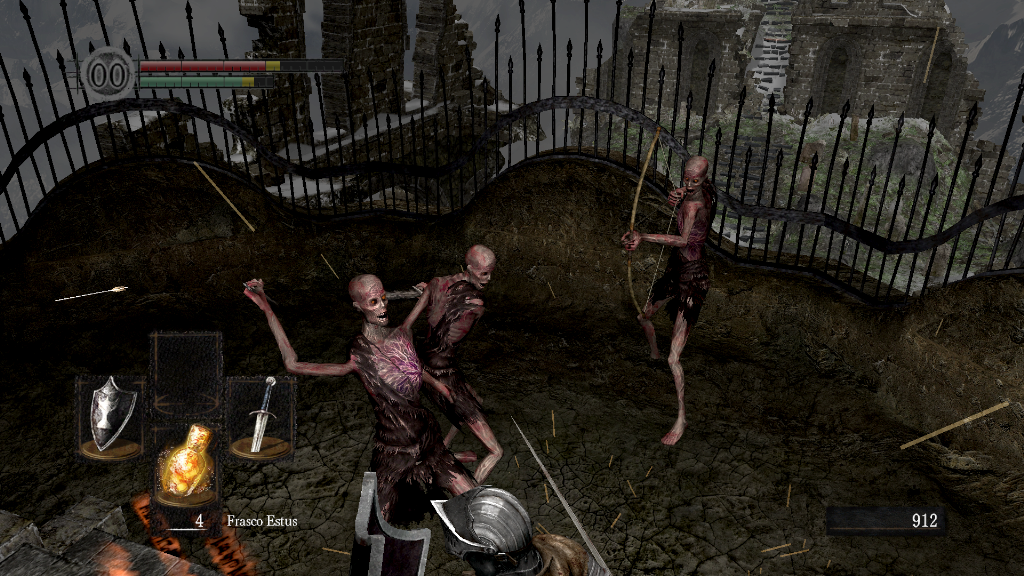health: (138, 58, 343, 71)
hollow: (239, 272, 480, 576), (620, 126, 717, 455), (414, 241, 504, 486)
humanity: (80, 45, 136, 102)
player: (352, 415, 609, 576)
souls: (825, 506, 945, 536)
stamina: (138, 74, 274, 88)
